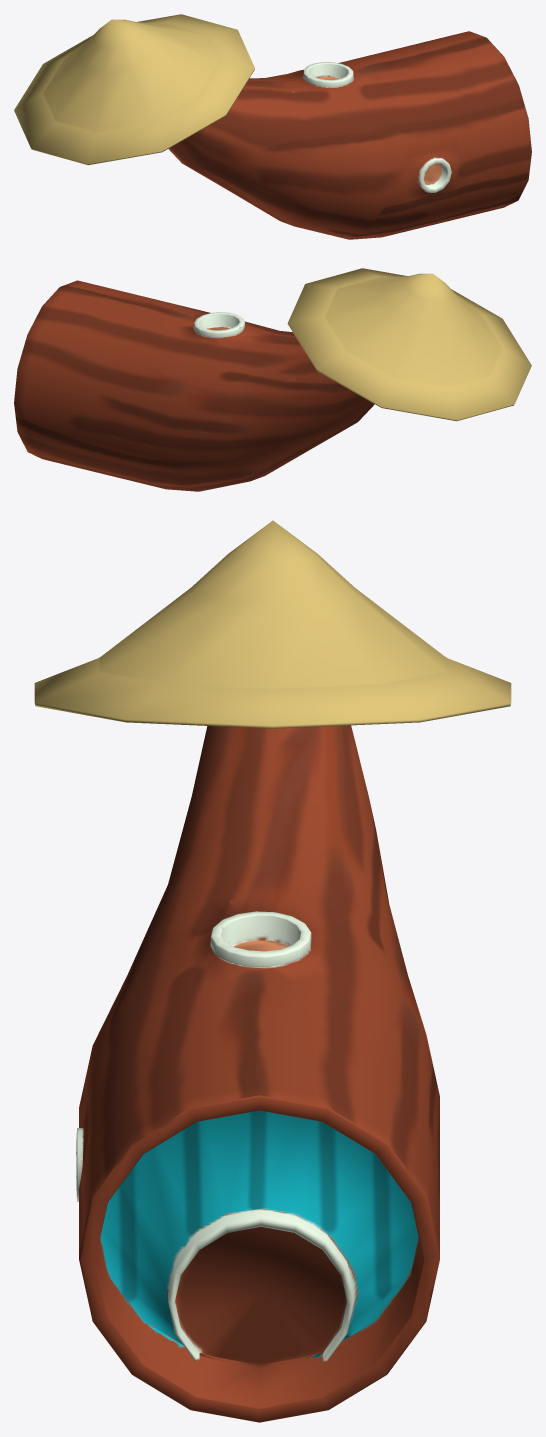
The model's file is casa_hongo.fbx.
The picture shows the model from 3 angles, top to bottom: view 1: azimuth 30°, elevation 25°; view 2: azimuth 150°, elevation 25°; view 3: azimuth 270°, elevation 25°; orthographic projection. The views are drawn at different scales.
Visible parts, largest first — view 1: casa_hongo; view 2: casa_hongo; view 3: casa_hongo.
Part boxes in pixels (x1=…): casa_hongo: x1=14, y1=14, x2=531, y2=239; casa_hongo: x1=14, y1=268, x2=531, y2=491; casa_hongo: x1=34, y1=520, x2=511, y2=1422.
Size of the model in its own units: 579 by 330 by 264.
4 materials, 2 textured.
